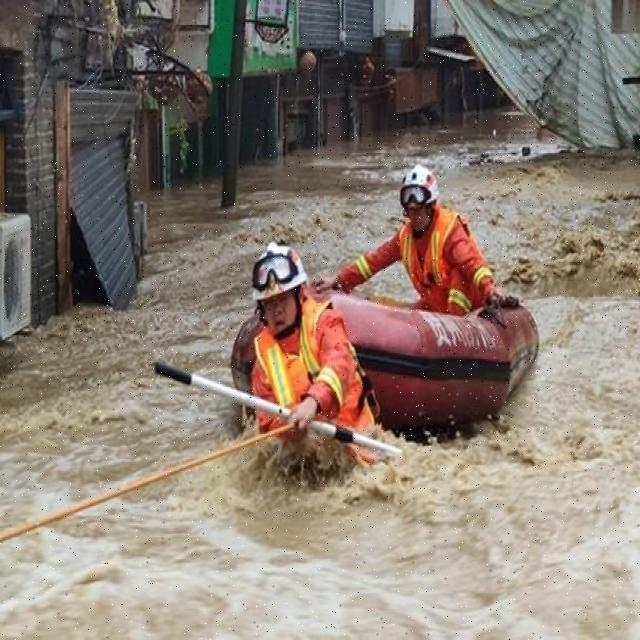rescuer: (244, 237, 374, 463), (377, 161, 494, 322)
